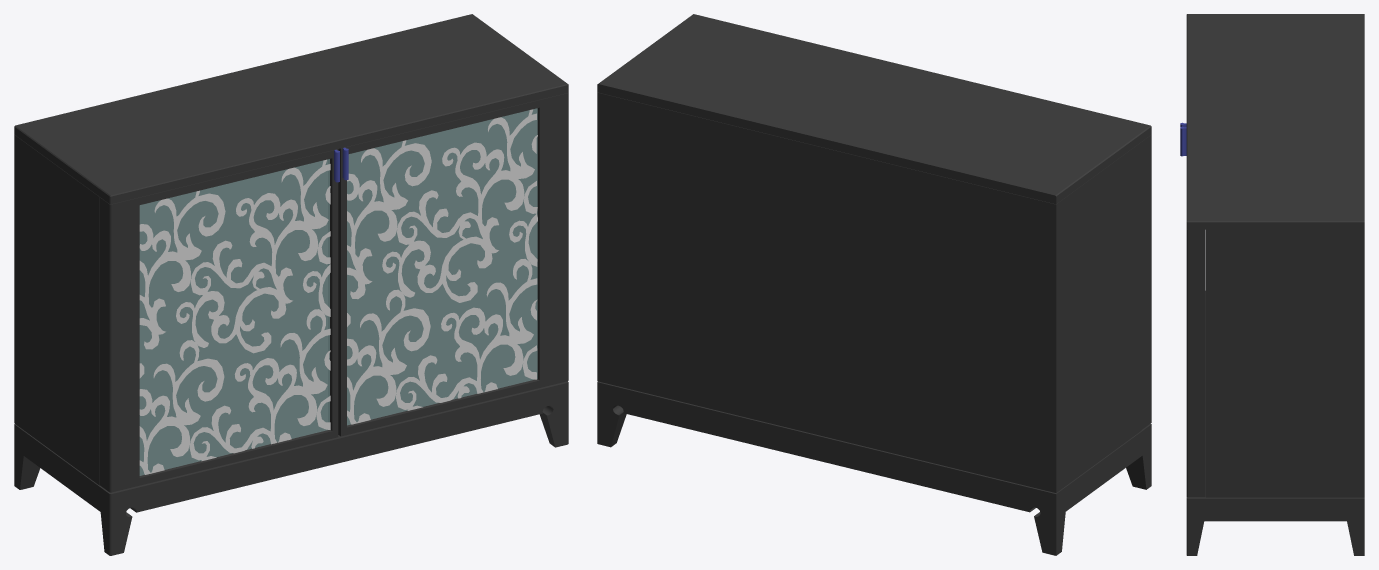
The model's file is HCB04M.FBX.
The picture shows the model from 3 angles, left to right: view 1: azimuth 30°, elevation 25°; view 2: azimuth 150°, elevation 25°; view 3: azimuth 270°, elevation 25°; orthographic projection. The views are drawn at different scales.
Visible parts, largest first — view 1: HCB04M; view 2: HCB04M; view 3: HCB04M.
Boxes of the visible parts, x1,y1,x2,y2 form: HCB04M: [14, 14, 568, 555]; HCB04M: [597, 14, 1151, 555]; HCB04M: [1180, 14, 1364, 555].
Size of the model in its own units: 120 by 45 by 90.
